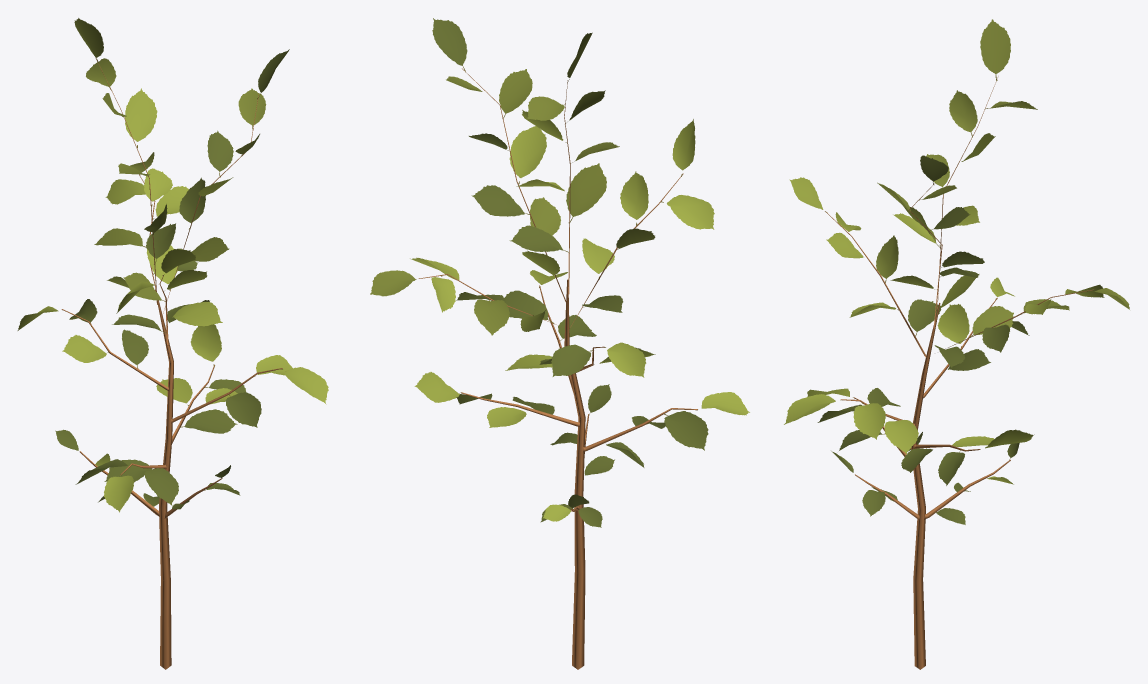
File: Young_Birch_Tree_1.fbx
3 renders of one model, left to right at view 1: azimuth 30°, elevation 25°; view 2: azimuth 150°, elevation 25°; view 3: azimuth 270°, elevation 25°, orthographic. The views are drawn at different scales.
Parts seen in each view (by area): view 1: Young_Birch_Tree_1; view 2: Young_Birch_Tree_1; view 3: Young_Birch_Tree_1.
Part boxes in pixels (<box>): Young_Birch_Tree_1: <box>17,18,328,669</box>; Young_Birch_Tree_1: <box>370,18,749,669</box>; Young_Birch_Tree_1: <box>784,19,1129,669</box>.
Bounding box in the file's own units: 98.57 × 243 × 124.
Materials: 2 (2 with a texture image).
